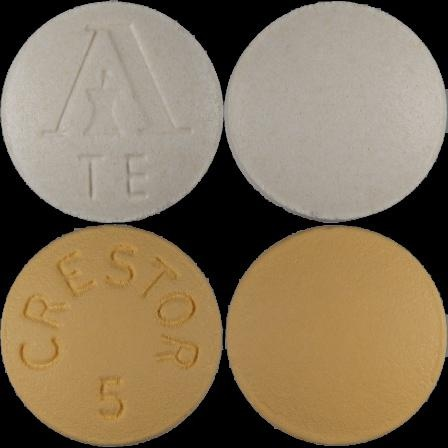63629-4368: (0, 0, 224, 224)
